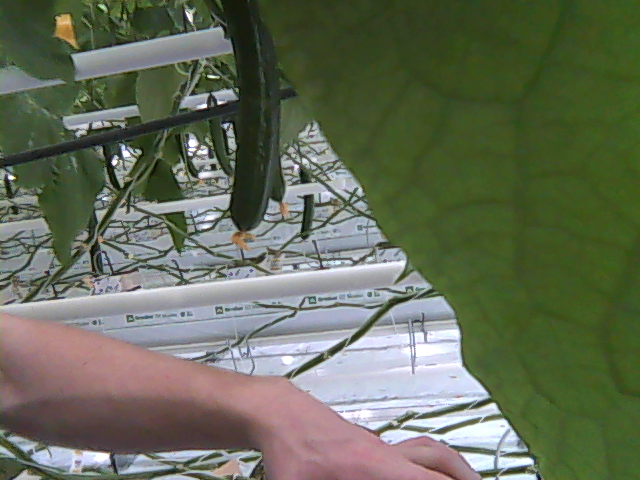concombre: (222, 1, 280, 252)
